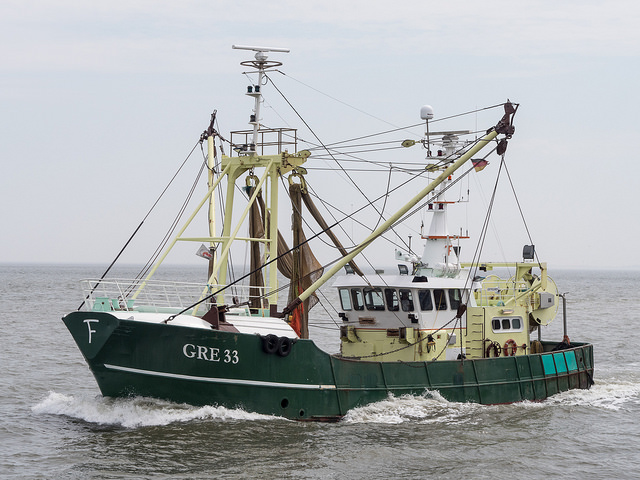fishing_boat: (62, 39, 594, 419)
